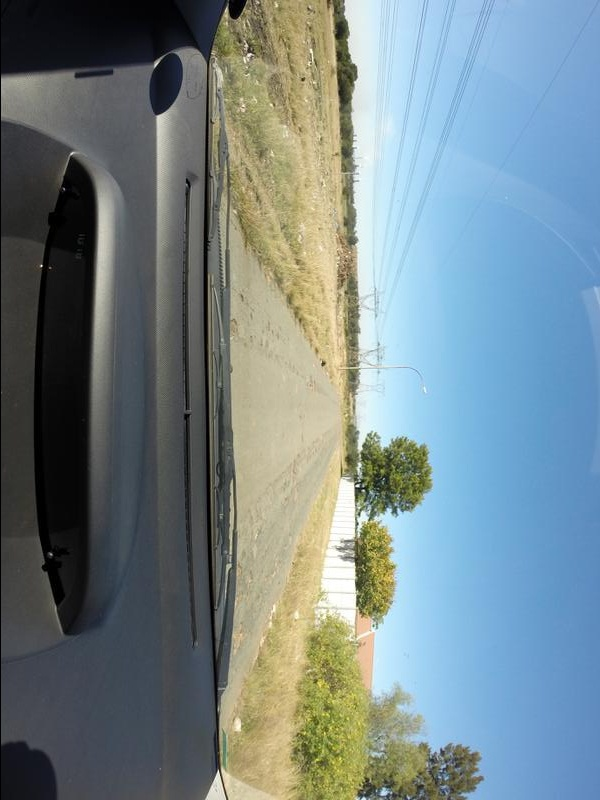pothole: (233, 624, 253, 651), (252, 521, 266, 543), (232, 564, 245, 587), (229, 319, 240, 343), (275, 553, 286, 577), (292, 460, 297, 488), (308, 378, 316, 393), (248, 570, 253, 587), (240, 290, 244, 303)
